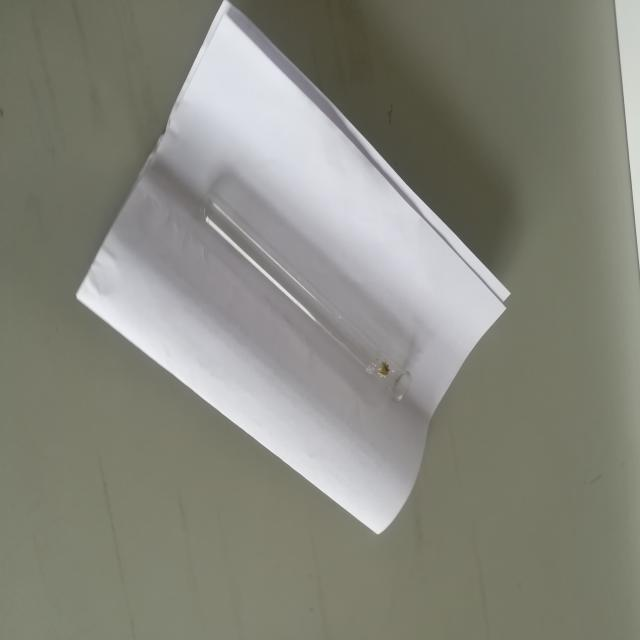Test_Tube: (181, 162, 428, 426)
